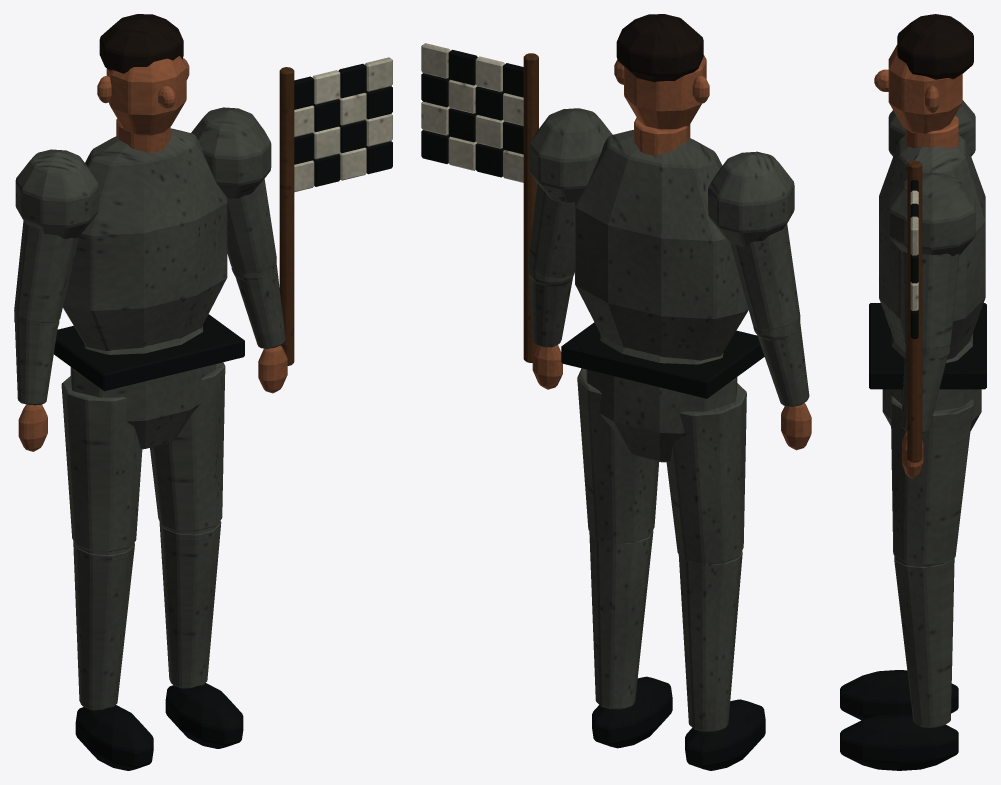
Rendered from PROP-E296DF5CA9A6_lod1.glb.
3 views of the same model, side by side, from view 1: azimuth 30°, elevation 25°; view 2: azimuth 150°, elevation 25°; view 3: azimuth 270°, elevation 25° (orthographic). The views are drawn at different scales.
Visible parts, largest first — view 1: torso.039, thigh.038, calf.038, shoulder.039, upper_arm.039, shoe.038, belt.038, pelvis.038, checker_flag.002, checker_flag.003, forearm.039, head.038 (+4 smaller); view 2: torso.039, thigh.038, calf.038, shoulder.039, upper_arm.039, pelvis.038, shoe.038, belt.038, checker_flag.002, checker_flag.003, forearm.039, hair_cap.038 (+5 smaller); view 3: thigh.038, torso.039, shoe.038, calf.038, shoulder.039, belt.038, hair_cap.038, head.038, flag_pole.001, upper_arm.039, pelvis.038, forearm.039 (+7 smaller).
Boxes of the visible parts, box(x1,y1,x2,y2) form: torso.039: box(63, 128, 227, 350); thigh.038: box(61, 362, 225, 551); calf.038: box(73, 521, 221, 710); shoulder.039: box(15, 107, 271, 238); upper_arm.039: box(14, 179, 276, 322); shoe.038: box(75, 683, 243, 770); belt.038: box(54, 314, 244, 391); pelvis.038: box(70, 326, 215, 449); checker_flag.002: box(294, 57, 392, 192); checker_flag.003: box(294, 63, 392, 186); forearm.039: box(15, 265, 285, 405); head.038: box(106, 56, 186, 135); torso.039: box(575, 130, 748, 360); thigh.038: box(577, 368, 746, 564); calf.038: box(589, 530, 742, 731); shoulder.039: box(529, 108, 794, 246); upper_arm.039: box(528, 183, 800, 329); pelvis.038: box(586, 335, 737, 462); shoe.038: box(592, 676, 765, 770); belt.038: box(561, 322, 764, 398); checker_flag.002: box(421, 43, 523, 182); checker_flag.003: box(421, 49, 523, 177); forearm.039: box(529, 275, 809, 406); hair_cap.038: box(616, 14, 703, 82); thigh.038: box(890, 396, 973, 565); torso.039: box(879, 134, 985, 359); shoe.038: box(840, 670, 958, 770); calf.038: box(894, 556, 954, 727); shoulder.039: box(888, 100, 975, 256); belt.038: box(869, 303, 986, 389); hair_cap.038: box(897, 14, 973, 79); head.038: box(888, 45, 962, 133); flag_pole.001: box(907, 160, 922, 462); upper_arm.039: box(902, 251, 959, 347); pelvis.038: box(882, 333, 981, 431); forearm.039: box(901, 348, 947, 432).
Bounding box in the file's own units: 0.9963 × 1.84 × 0.3357.
6 materials, 6 textured.
